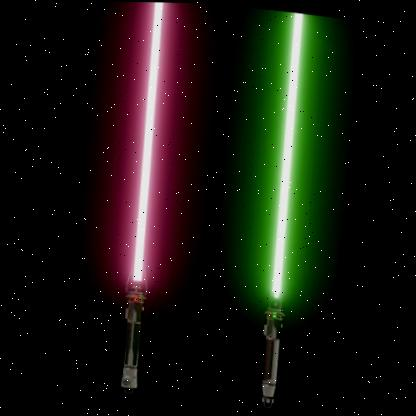lightsaber: (235, 9, 328, 416), (103, 2, 185, 401)
